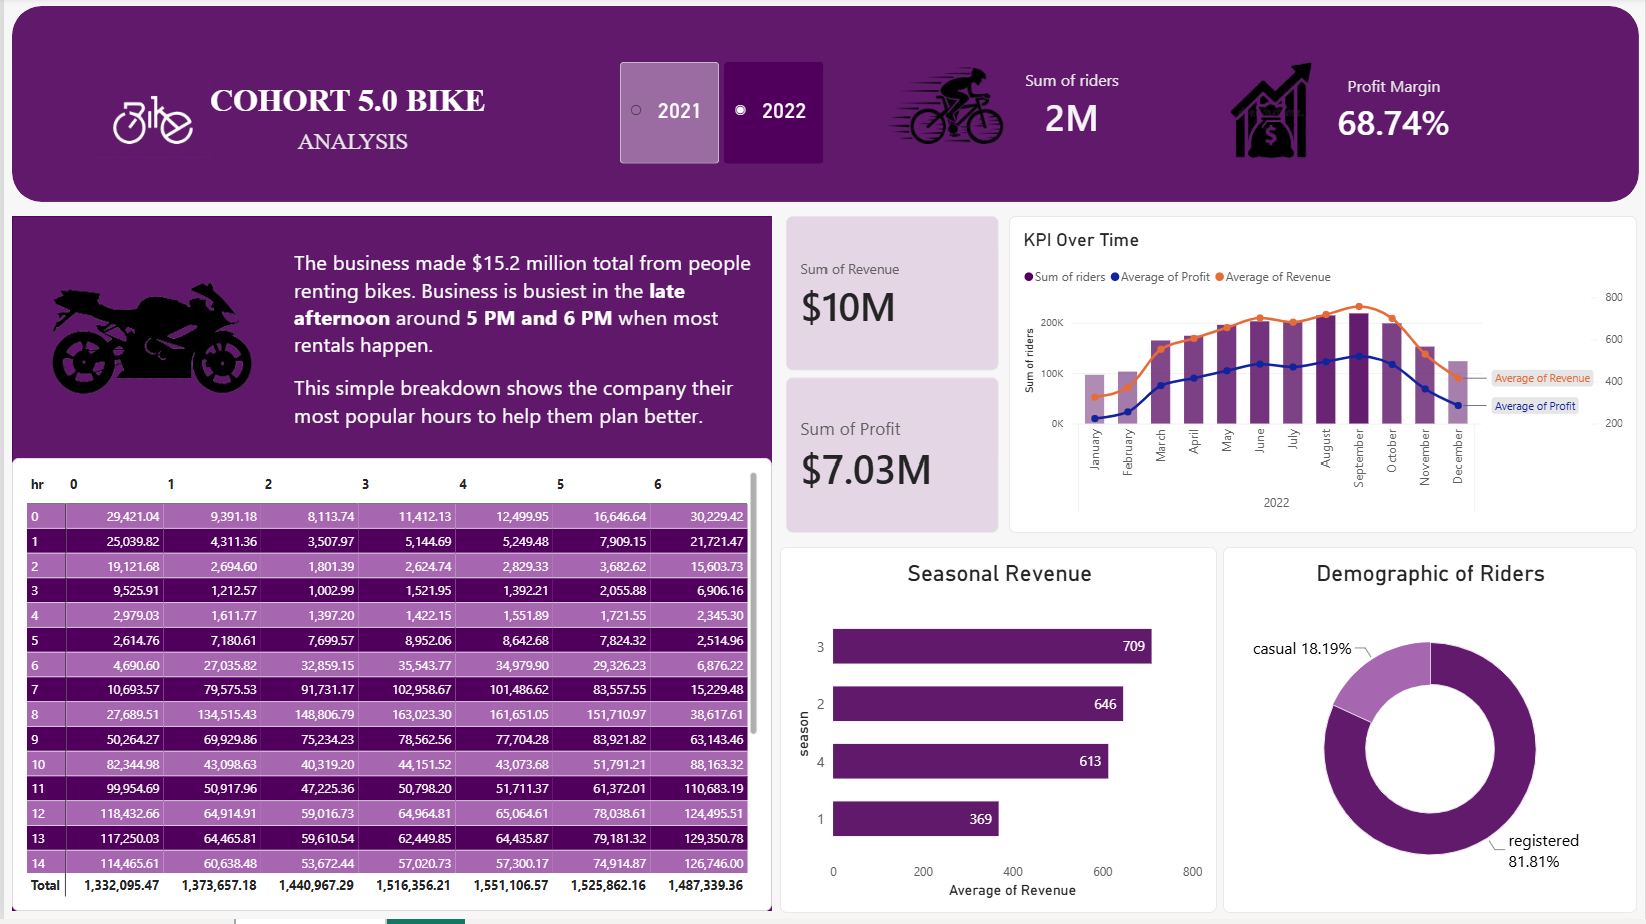

What the dashboard file says about the page in this screenshot:
{"tool":"powerbi","page":{"name":"Page 1","canvas":[1920,1080],"ordinal":0},"visuals":[{"type":"shape","box":[9.4,11.7,1904.6,229.6],"z":0},{"type":"shape","box":[9.4,257.7,890.2,812.9],"z":1000},{"type":"pivotTable","fields":{"Columns":["Query.weekday"],"Rows":["Query.hr"],"Values":["Sum(Query.Revenue)"]},"box":[9.4,541.2,890.2,529.5],"z":2000},{"type":"cardVisual","fields":{"Data":["Sum(Query.Revenue)","Sum(Query.Profit)"]},"box":[916,257.7,248.3,370.2],"z":3000},{"type":"barChart","title":"Seasonal Revenue","fields":{"Category":["Query.season"],"Y":["Avg(Query.Revenue)"]},"box":[909,644.3,510.7,428.7],"z":4000},{"type":"donutChart","title":"Demographic of Riders","fields":{"Category":["Query.rider_type"],"Y":["Sum(Query.riders)"]},"box":[1426.7,644.3,484.9,428.7],"z":5000},{"type":"lineClusteredColumnComboChart","title":"KPI Over Time","fields":{"Category":["Query.dteday.Variation.Date Hierarchy.Year","Query.dteday.Variation.Date Hierarchy.Month","Query.dteday.Variation.Date Hierarchy.Day"],"Y":["Sum(Query.riders)"],"Y2":["Avg(Query.Profit)","Avg(Query.Revenue)"]},"box":[1176.1,257.7,735.6,370.2],"z":6000},{"type":"textbox","box":[339.7,295.2,538.8,210.8],"z":7000},{"type":"cardVisual","fields":{"Data":["Sum(Query.riders)"]},"box":[1164.3,42.2,171,171],"z":8000},{"type":"cardVisual","fields":{"Data":["Query.Profit Margin"]},"box":[1543.9,53.9,166.3,159.3],"z":9000},{"type":"image","box":[1009.7,39.8,182.7,178],"z":10000},{"type":"image","box":[53.9,274.1,239,253],"z":11000},{"type":"image","box":[1382.2,44.5,201.5,178],"z":12000},{"type":"image","box":[107.8,77.3,133.5,135.9],"z":12001},{"type":"textbox","box":[241.3,100.7,332.7,51.5],"z":12002},{"type":"textbox","box":[325.6,154.6,166.3,35.1],"z":12003},{"type":"advancedSlicerVisual","fields":{"Values":["Query.yr"]},"box":[721.6,77.3,239,119.5],"z":12004}]}

Visuals, with their boxes in screenshot pixels (x1, y1, x2, y2), scaled from the page's 1920x1080 canvas onto the 1646x924 screenshot:
shape: pyautogui.locateOnScreen(8, 10, 1641, 206)
shape: pyautogui.locateOnScreen(8, 220, 771, 916)
pivotTable - Query.weekday x Query.hr: pyautogui.locateOnScreen(8, 463, 771, 916)
cardVisual - Sum(Query.Revenue) x Sum(Query.Profit): pyautogui.locateOnScreen(785, 220, 998, 537)
"Seasonal Revenue" barChart: pyautogui.locateOnScreen(779, 551, 1217, 918)
"Demographic of Riders" donutChart: pyautogui.locateOnScreen(1223, 551, 1639, 918)
"KPI Over Time" lineClusteredColumnComboChart: pyautogui.locateOnScreen(1008, 220, 1639, 537)
textbox: pyautogui.locateOnScreen(291, 253, 753, 433)
cardVisual - Sum(Query.riders): pyautogui.locateOnScreen(998, 36, 1145, 182)
cardVisual - Query.Profit Margin: pyautogui.locateOnScreen(1324, 46, 1466, 182)
image: pyautogui.locateOnScreen(866, 34, 1022, 186)
image: pyautogui.locateOnScreen(46, 235, 251, 451)
image: pyautogui.locateOnScreen(1185, 38, 1358, 190)
image: pyautogui.locateOnScreen(92, 66, 207, 182)
textbox: pyautogui.locateOnScreen(207, 86, 492, 130)
textbox: pyautogui.locateOnScreen(279, 132, 422, 162)
advancedSlicerVisual - Query.yr: pyautogui.locateOnScreen(619, 66, 824, 168)
